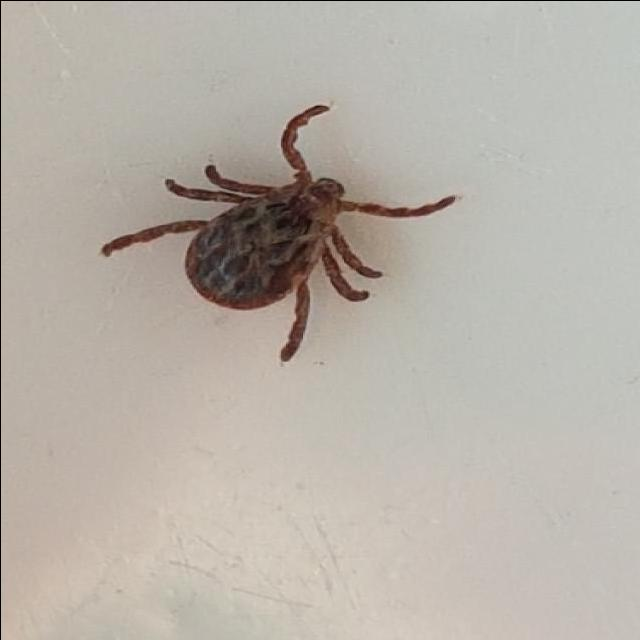Dermacentor Reticulatus-M: (99, 104, 456, 360)
